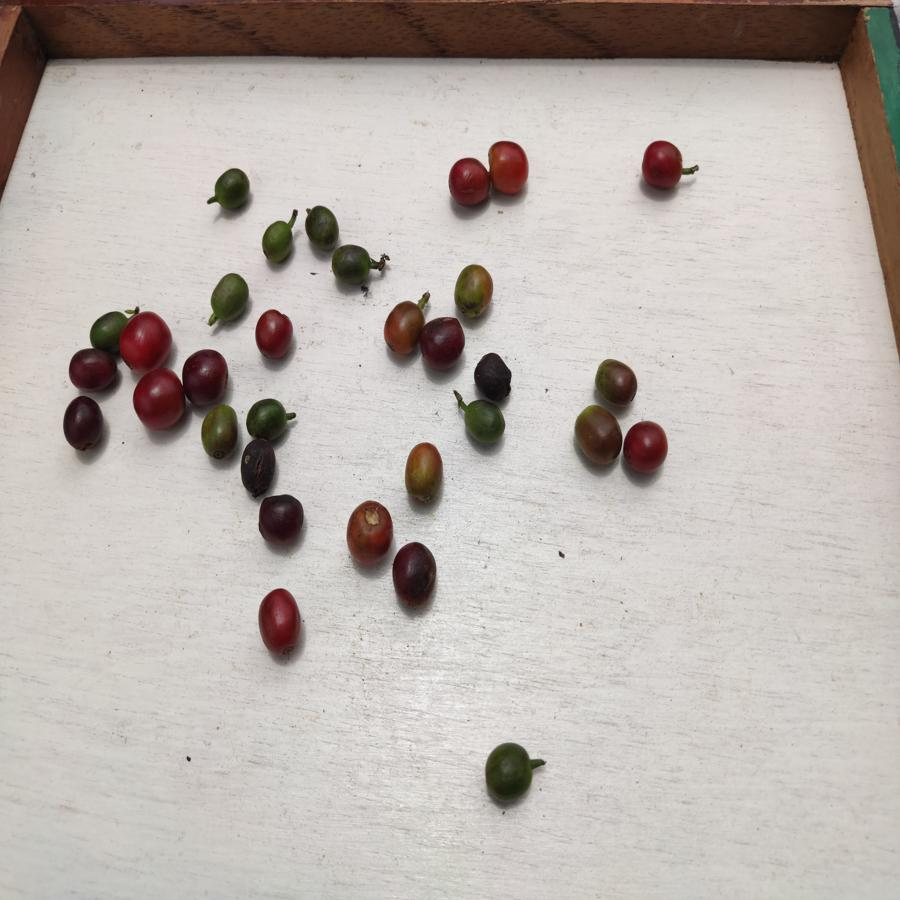Inmaduro: (484, 739, 536, 805), (209, 269, 249, 324), (461, 401, 506, 446), (330, 243, 374, 289), (247, 395, 292, 438), (212, 166, 252, 212), (258, 217, 296, 264), (304, 204, 340, 251), (87, 308, 121, 350)
Maduro: (130, 368, 185, 435), (345, 497, 394, 567), (258, 589, 304, 659), (119, 314, 172, 371), (624, 419, 670, 478), (484, 142, 534, 195), (255, 308, 298, 362), (642, 139, 685, 191), (446, 157, 489, 209)
Pinton: (571, 404, 620, 467), (401, 438, 447, 503), (454, 262, 496, 319), (594, 356, 639, 407), (198, 407, 239, 461), (383, 300, 420, 359)
Sobremaduro: (391, 539, 439, 608), (181, 349, 231, 404), (257, 492, 305, 546), (62, 394, 105, 454), (65, 351, 119, 393), (472, 349, 515, 401), (422, 317, 465, 367), (239, 437, 274, 494)
